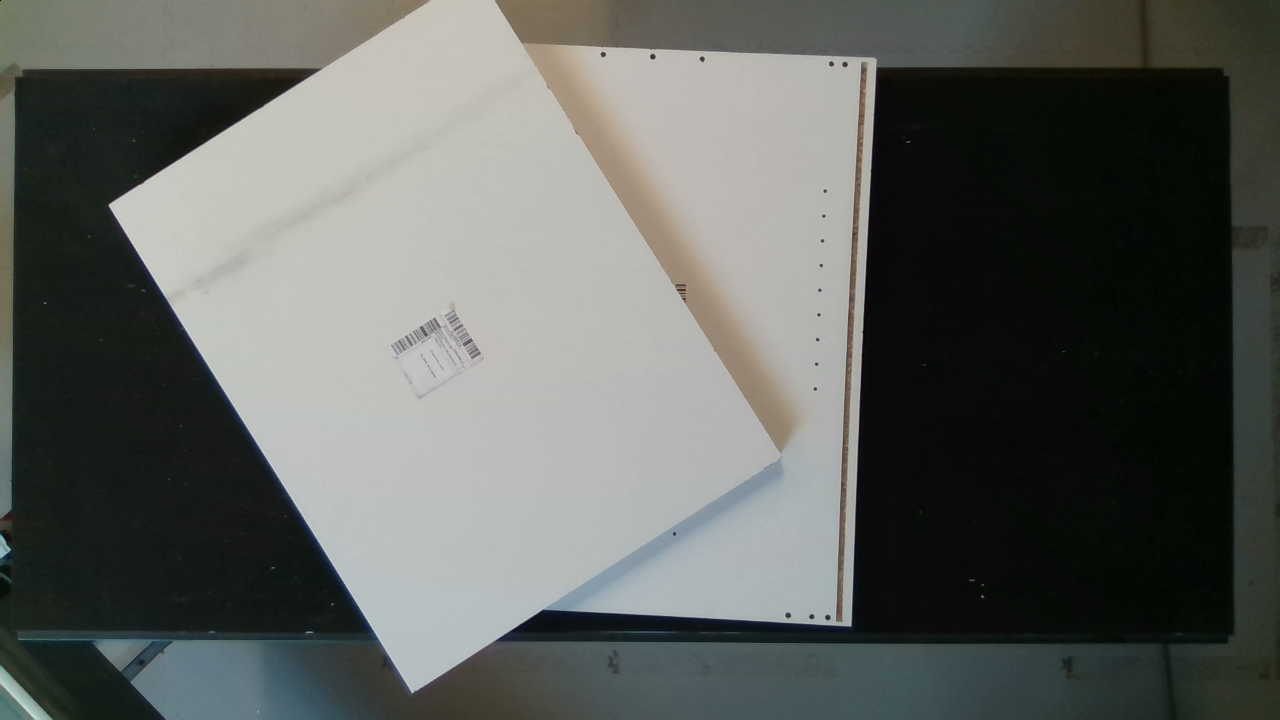barcode: (377, 285, 487, 405)
part2: (106, 1, 788, 700)
